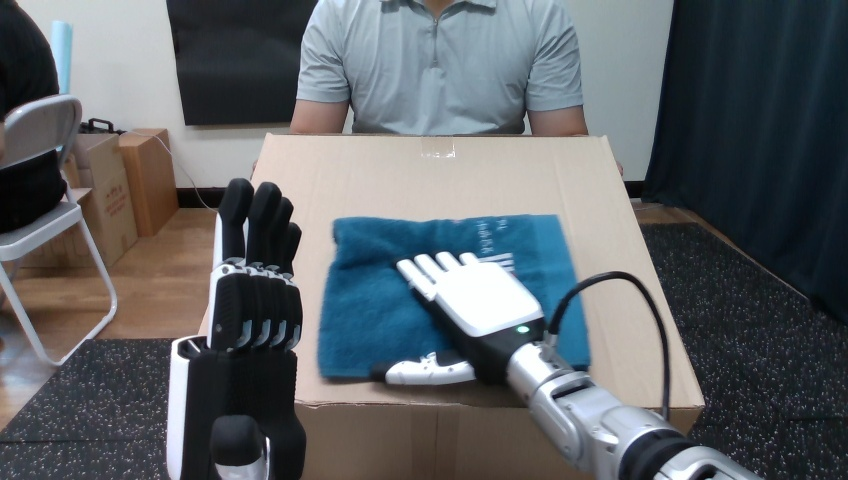left robot hand: (372, 251, 759, 479), (167, 178, 305, 478), (556, 278, 664, 415)
